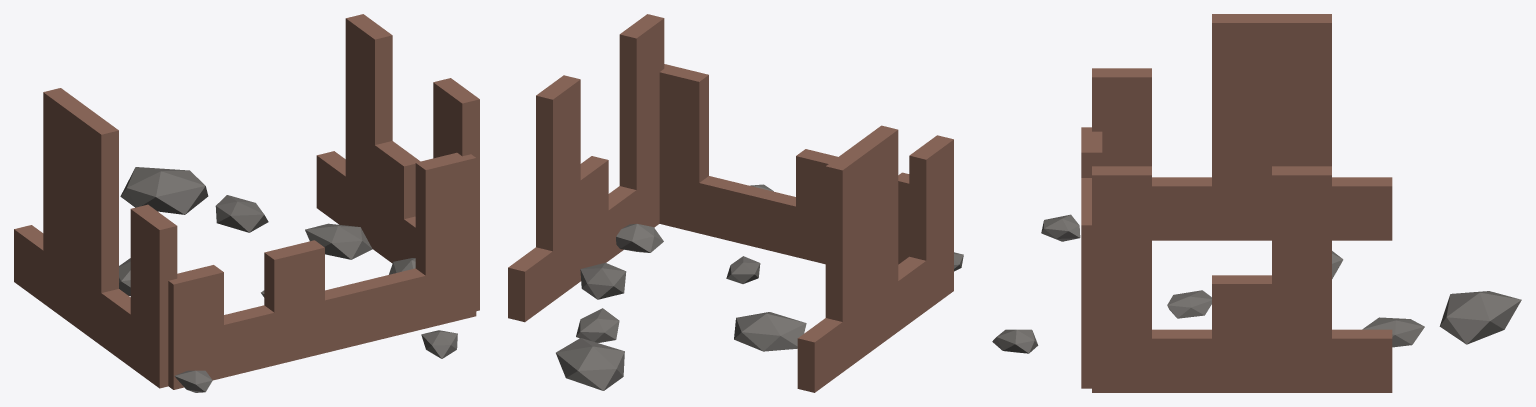
The model's file is prop_ruin_c.glb.
The picture shows the model from 3 angles, left to right: view 1: azimuth 30°, elevation 25°; view 2: azimuth 150°, elevation 25°; view 3: azimuth 270°, elevation 25°; orthographic projection. The views are drawn at different scales.
Parts seen in each view (by area): view 1: prop_ruin_c; view 2: prop_ruin_c; view 3: prop_ruin_c.
Part boxes in pixels (left/top/right/bottom): prop_ruin_c: left=14, top=14, right=479, bottom=392; prop_ruin_c: left=508, top=14, right=963, bottom=392; prop_ruin_c: left=992, top=14, right=1521, bottom=392.
Bounding box in the file's own units: 6.35 × 4.04 × 8.82.
